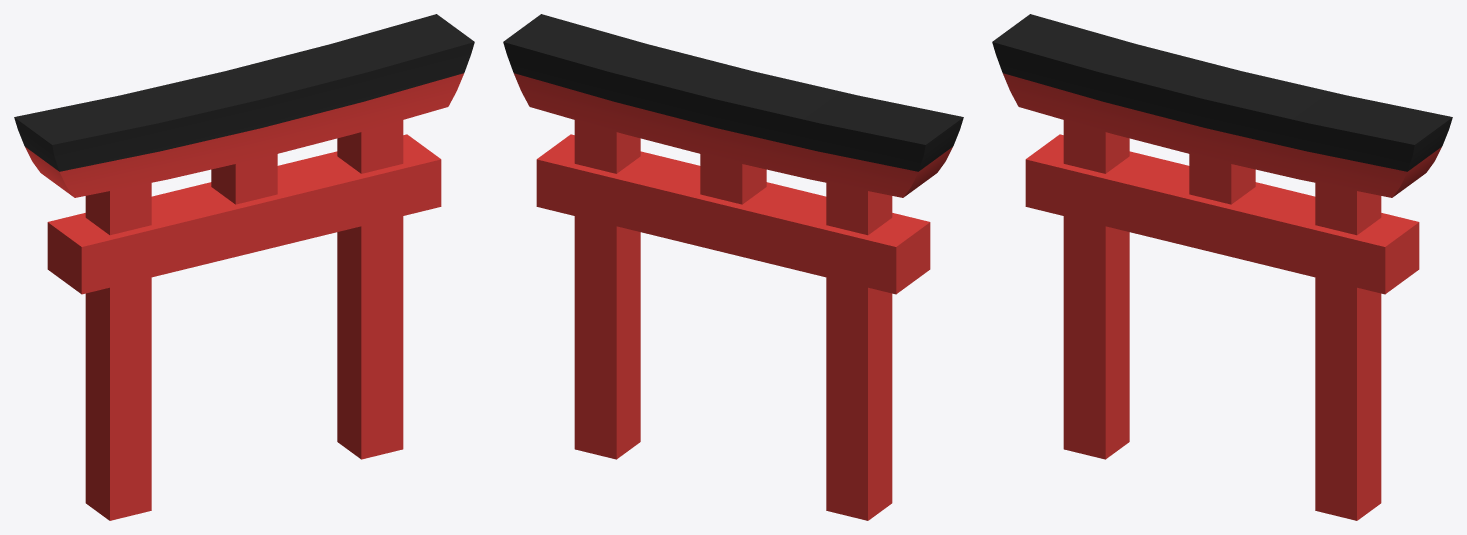
The model's file is shinto_shrine.fbx.
The picture shows the model from 3 angles, left to right: view 1: azimuth 30°, elevation 25°; view 2: azimuth 150°, elevation 25°; view 3: azimuth 330°, elevation 25°; orthographic projection.
Visible parts, largest first — view 1: Cube.507; view 2: Cube.507; view 3: Cube.507.
Boxes of the visible parts, x1=… form: Cube.507: x1=14, y1=14, x2=474, y2=520; Cube.507: x1=503, y1=14, x2=963, y2=520; Cube.507: x1=992, y1=14, x2=1452, y2=520.
Size of the model in its own units: 220 by 198 by 34.46.
Materials: 1 (1 with a texture image).
